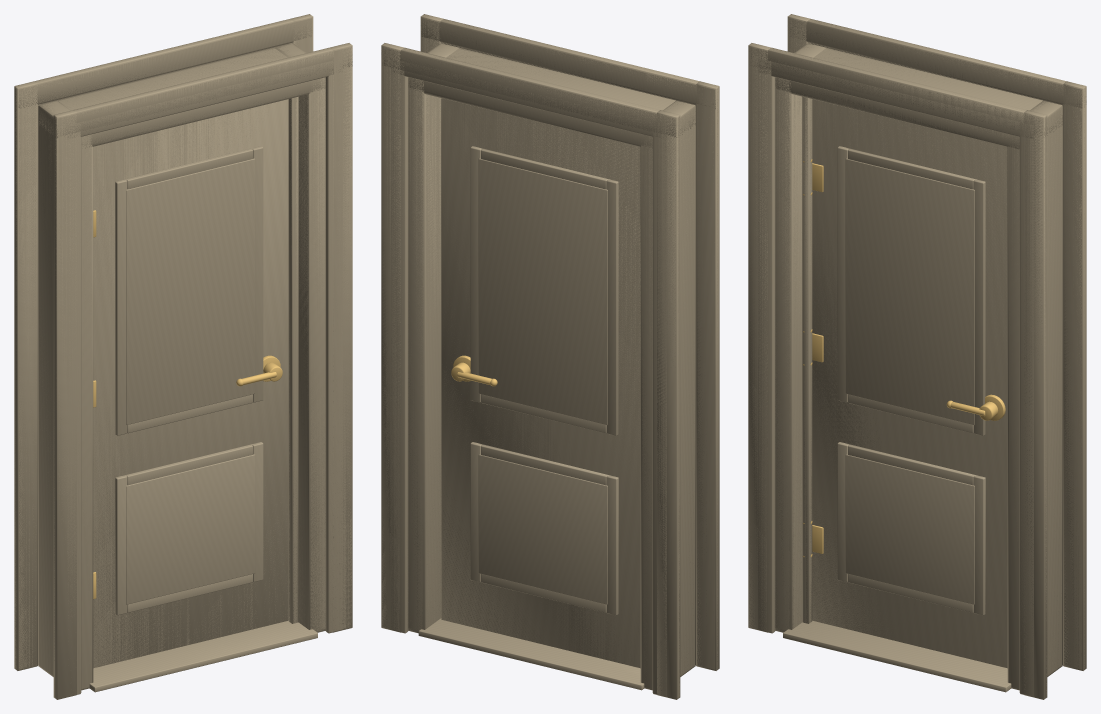
File: door_standard.glb
The picture shows the model from 3 angles, left to right: view 1: azimuth 30°, elevation 25°; view 2: azimuth 150°, elevation 25°; view 3: azimuth 330°, elevation 25°; orthographic projection.
Visible parts, largest first — view 1: MESH_LOD0_StaticFrameAssembly, MESH_LOD2_StaticFrameAssembly, MESH_LOD1_StaticFrameAssembly, MESH_LOD2_Single_Slab, MESH_LOD0_Single_UpperPanel_Exterior_Field, MESH_LOD0_Single_LowerPanel_Exterior_Field, MESH_LOD0_Single_Slab, MESH_LOD1_Single_Slab, MESH_LOD0_Single_UpperPanel_Exterior_MouldingLeft, MESH_LOD0_Single_UpperPanel_Exterior_MouldingRight, MESH_LOD0_Single_LowerPanel_Exterior_MouldingLeft, MESH_LOD0_Single_UpperPanel_Exterior_MouldingTop (+4 smaller); view 2: MESH_LOD0_StaticFrameAssembly, MESH_LOD2_StaticFrameAssembly, MESH_LOD1_StaticFrameAssembly, MESH_LOD0_Single_UpperPanel_Interior_Field, MESH_LOD2_Single_Slab, MESH_LOD1_Single_Slab, MESH_LOD0_Single_LowerPanel_Interior_Field, MESH_LOD0_Single_Slab, MESH_LOD0_Single_UpperPanel_Interior_MouldingLeft, MESH_LOD0_Single_UpperPanel_Interior_MouldingRight, MESH_LOD0_Single_LowerPanel_Interior_MouldingLeft, MESH_LOD0_Single_UpperPanel_Interior_MouldingTop (+4 smaller); view 3: MESH_LOD0_StaticFrameAssembly, MESH_LOD2_StaticFrameAssembly, MESH_LOD1_StaticFrameAssembly, MESH_LOD0_Single_Slab, MESH_LOD0_Single_UpperPanel_Exterior_Field, MESH_LOD0_Single_LowerPanel_Exterior_Field, MESH_LOD2_Single_Slab, MESH_LOD1_Single_Slab, MESH_LOD0_Single_UpperPanel_Exterior_MouldingRight, MESH_LOD0_Single_UpperPanel_Exterior_MouldingLeft, MESH_LOD0_Single_LowerPanel_Exterior_MouldingRight, MESH_LOD0_Single_UpperPanel_Exterior_MouldingTop (+5 smaller).
Part boxes in pixels (left/top/right/bottom): MESH_LOD0_StaticFrameAssembly: left=14, top=15, right=351, bottom=697; MESH_LOD2_StaticFrameAssembly: left=14, top=14, right=352, bottom=699; MESH_LOD1_StaticFrameAssembly: left=38, top=42, right=342, bottom=694; MESH_LOD2_Single_Slab: left=93, top=99, right=288, bottom=666; MESH_LOD0_Single_UpperPanel_Exterior_Field: left=126, top=158, right=255, bottom=424; MESH_LOD0_Single_LowerPanel_Exterior_Field: left=126, top=454, right=255, bottom=604; MESH_LOD0_Single_Slab: left=93, top=108, right=287, bottom=667; MESH_LOD1_Single_Slab: left=93, top=123, right=252, bottom=668; MESH_LOD0_Single_UpperPanel_Exterior_MouldingLeft: left=115, top=180, right=127, bottom=435; MESH_LOD0_Single_UpperPanel_Exterior_MouldingRight: left=253, top=146, right=263, bottom=402; MESH_LOD0_Single_LowerPanel_Exterior_MouldingLeft: left=115, top=475, right=127, bottom=615; MESH_LOD0_Single_UpperPanel_Exterior_MouldingTop: left=127, top=149, right=252, bottom=189; MESH_LOD0_StaticFrameAssembly: left=382, top=15, right=717, bottom=697; MESH_LOD2_StaticFrameAssembly: left=381, top=14, right=719, bottom=699; MESH_LOD1_StaticFrameAssembly: left=391, top=44, right=695, bottom=696; MESH_LOD0_Single_UpperPanel_Interior_Field: left=478, top=158, right=607, bottom=424; MESH_LOD2_Single_Slab: left=441, top=98, right=640, bottom=663; MESH_LOD1_Single_Slab: left=442, top=98, right=640, bottom=668; MESH_LOD0_Single_LowerPanel_Interior_Field: left=478, top=454, right=607, bottom=604; MESH_LOD0_Single_Slab: left=443, top=99, right=640, bottom=656; MESH_LOD0_Single_UpperPanel_Interior_MouldingLeft: left=606, top=180, right=618, bottom=435; MESH_LOD0_Single_UpperPanel_Interior_MouldingRight: left=470, top=146, right=480, bottom=402; MESH_LOD0_Single_LowerPanel_Interior_MouldingLeft: left=606, top=475, right=618, bottom=615; MESH_LOD0_Single_UpperPanel_Interior_MouldingTop: left=481, top=149, right=606, bottom=189; MESH_LOD0_StaticFrameAssembly: left=749, top=14, right=1084, bottom=696; MESH_LOD2_StaticFrameAssembly: left=748, top=14, right=1086, bottom=699; MESH_LOD1_StaticFrameAssembly: left=758, top=42, right=1062, bottom=696; MESH_LOD0_Single_Slab: left=812, top=99, right=1007, bottom=667; MESH_LOD0_Single_UpperPanel_Exterior_Field: left=845, top=158, right=974, bottom=424; MESH_LOD0_Single_LowerPanel_Exterior_Field: left=845, top=454, right=974, bottom=604; MESH_LOD2_Single_Slab: left=812, top=99, right=996, bottom=650; MESH_LOD1_Single_Slab: left=813, top=116, right=1007, bottom=668; MESH_LOD0_Single_UpperPanel_Exterior_MouldingRight: left=973, top=180, right=985, bottom=435; MESH_LOD0_Single_UpperPanel_Exterior_MouldingLeft: left=837, top=146, right=847, bottom=402; MESH_LOD0_Single_LowerPanel_Exterior_MouldingRight: left=973, top=475, right=985, bottom=615; MESH_LOD0_Single_UpperPanel_Exterior_MouldingTop: left=848, top=149, right=973, bottom=189.
Size of what is drawn, in the model's own units: 1.2 by 2.26 by 0.3135.
Materials: 4 (1 with a texture image).
